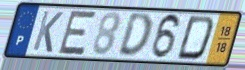6: (150, 13, 184, 62)
8: (91, 11, 123, 59)
D: (174, 14, 217, 62), (116, 12, 153, 60)
E: (56, 9, 99, 57)
K: (30, 9, 65, 54)
